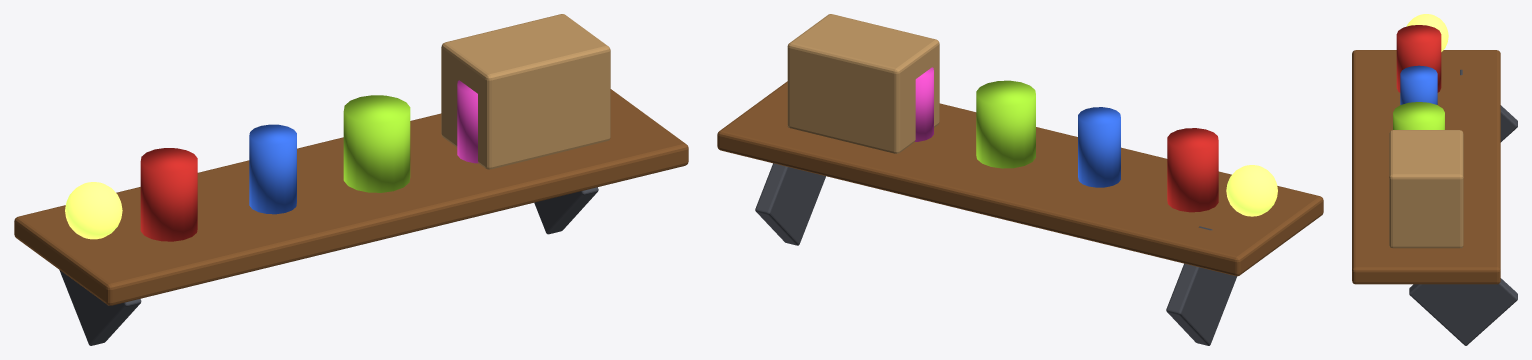
The model's file is Wall_Shelf.fbx.
3 renders of one model, left to right at view 1: azimuth 30°, elevation 25°; view 2: azimuth 150°, elevation 25°; view 3: azimuth 270°, elevation 25°, orthographic. The views are drawn at different scales.
Visible parts, largest first — view 1: Wall_Shelf; view 2: Wall_Shelf; view 3: Wall_Shelf.
Boxes of the visible parts, x1,y1,x2,y2 form: Wall_Shelf: (14, 14, 688, 345); Wall_Shelf: (717, 14, 1323, 345); Wall_Shelf: (1352, 14, 1517, 345).
Bounding box in the file's own units: 1.4 × 0.5063 × 0.4462.
